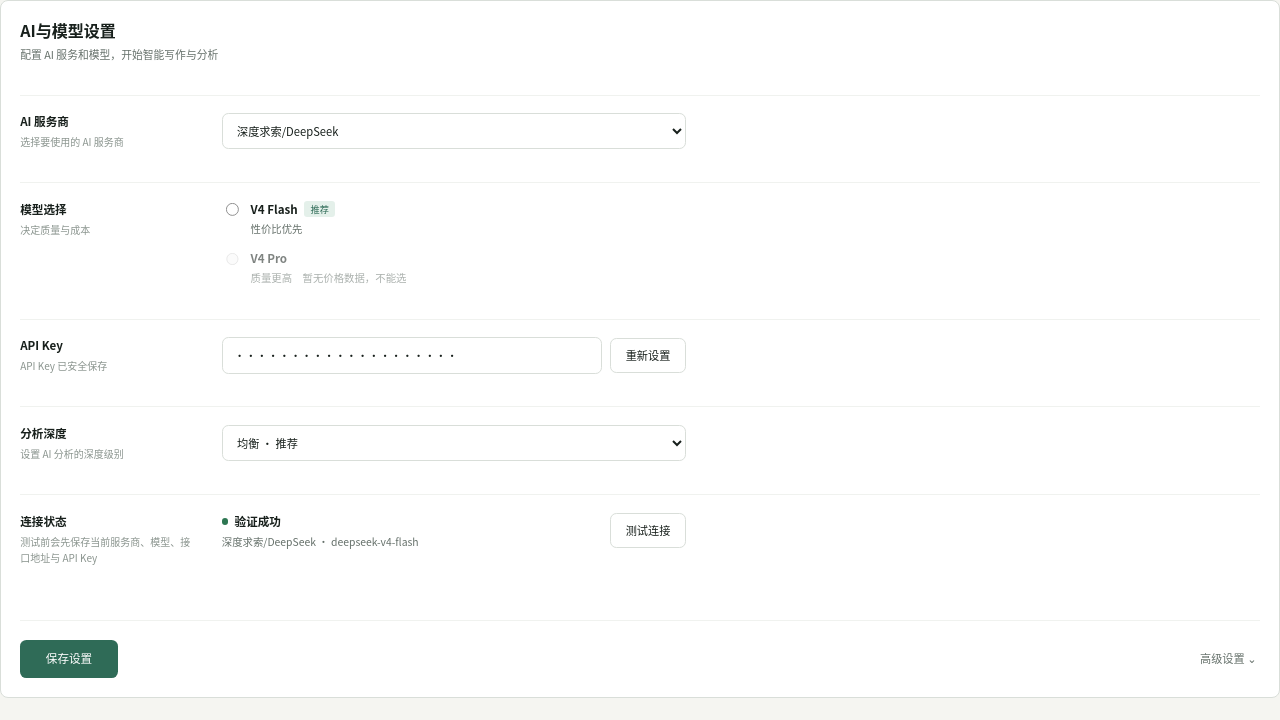
Test case: AiConnectionPanel › 只有一个主按钮和一个 API Key 输入口
This screenshot has width=1280, height=720.
Expected: the element with test id "ai-connection-status" is shown, [222,513,686,550]
Expected: the number of buttons with class "ai-btn-primary" is 1, [20,640,118,678]
What coordinates should you click on to do the following:
click the button with test id "ai-key-reset"
I would click on:
 (648, 356)
Its box is [610,338,686,373].
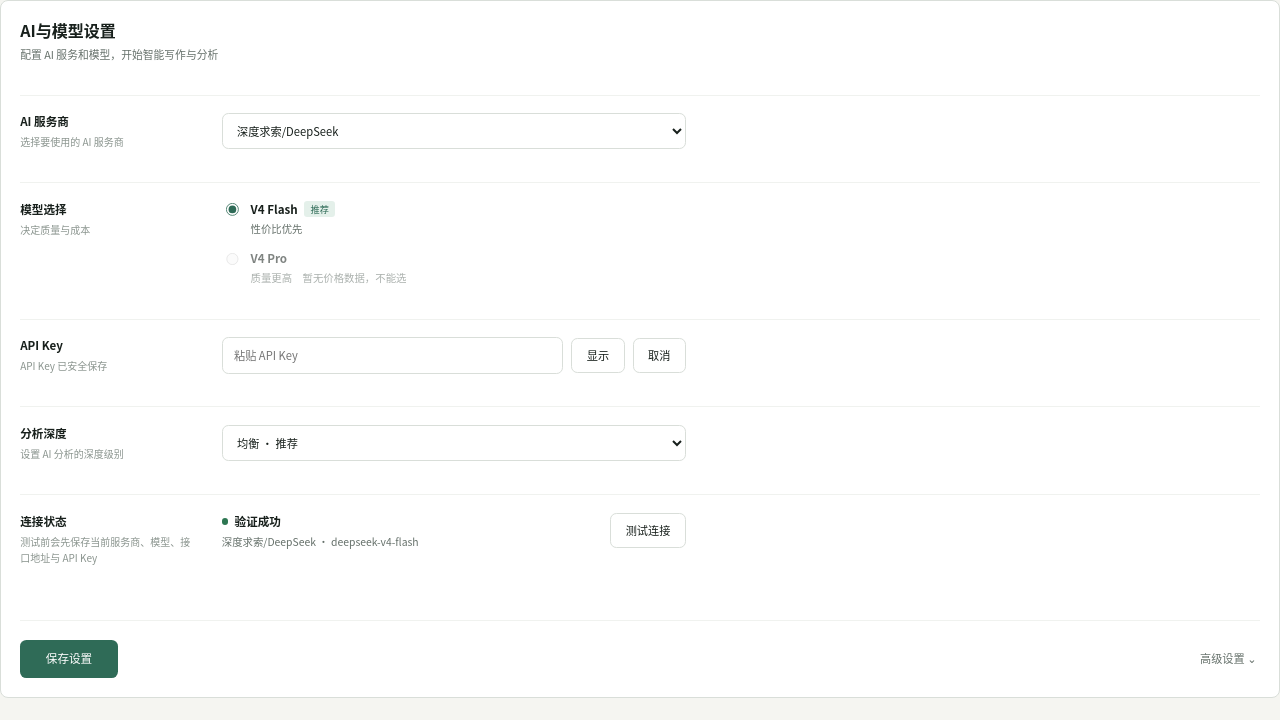
Result: the number of password fields is 1 at [222,337,564,374]
